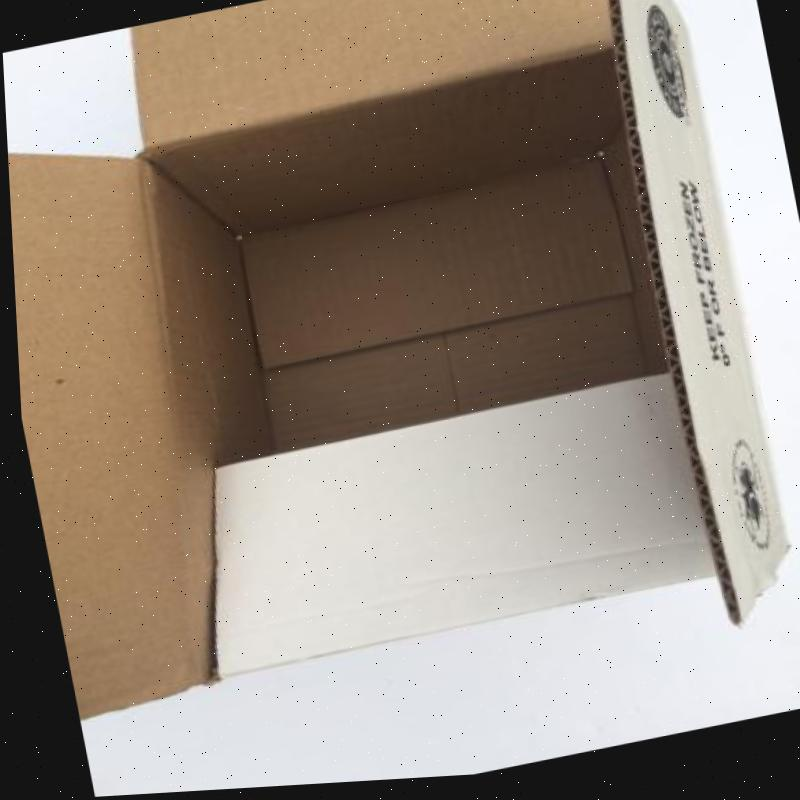cardboard: (8, 0, 788, 721)
